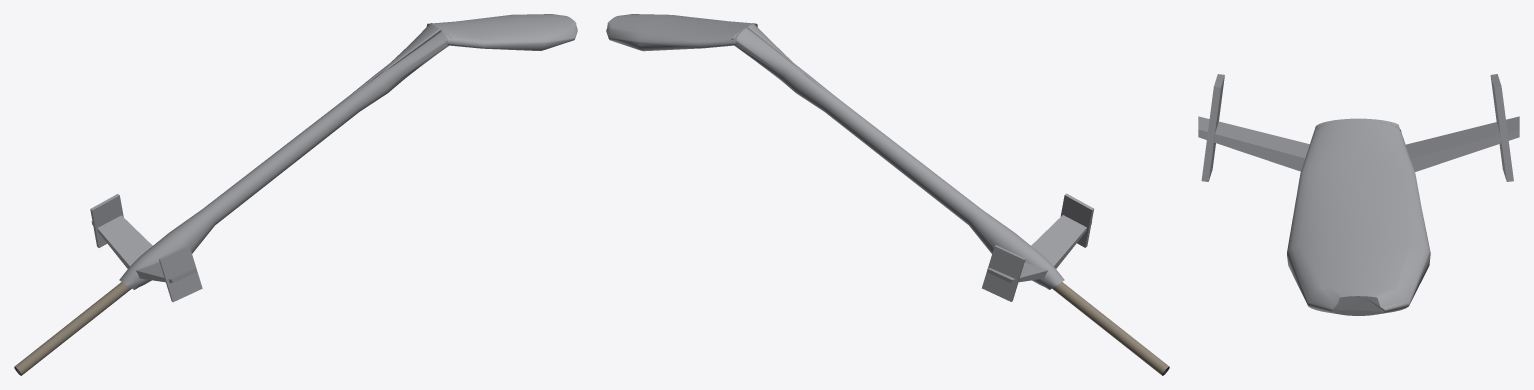
File: kc10bon.glb
The picture shows the model from 3 angles, left to right: view 1: azimuth 30°, elevation 25°; view 2: azimuth 150°, elevation 25°; view 3: azimuth 270°, elevation 25°; orthographic projection. The views are drawn at different scales.
Parts seen in each view (by area): view 1: 立方体.001, boom.001, innerBoom.001; view 2: 立方体.001, boom.001, innerBoom.001; view 3: boom.001, 立方体.001.
Boxes of the visible parts, x1,y1,x2,y2 form: 立方体.001: [90, 23, 451, 302]; boom.001: [426, 14, 577, 50]; innerBoom.001: [14, 282, 131, 375]; 立方体.001: [731, 23, 1093, 301]; boom.001: [606, 14, 757, 51]; innerBoom.001: [1052, 282, 1169, 375]; boom.001: [1287, 118, 1430, 315]; 立方体.001: [1198, 74, 1519, 181].
Size of the model in its own units: 14.97 by 6.32 by 3.74.
